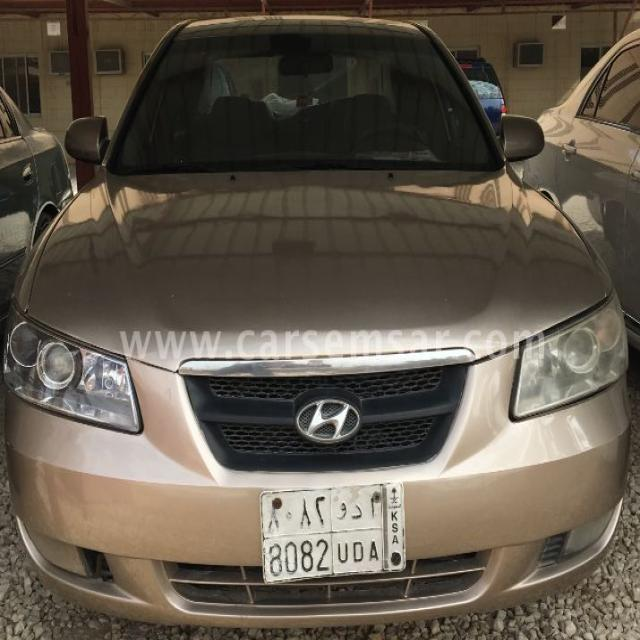license_plate: (259, 478, 406, 587)
